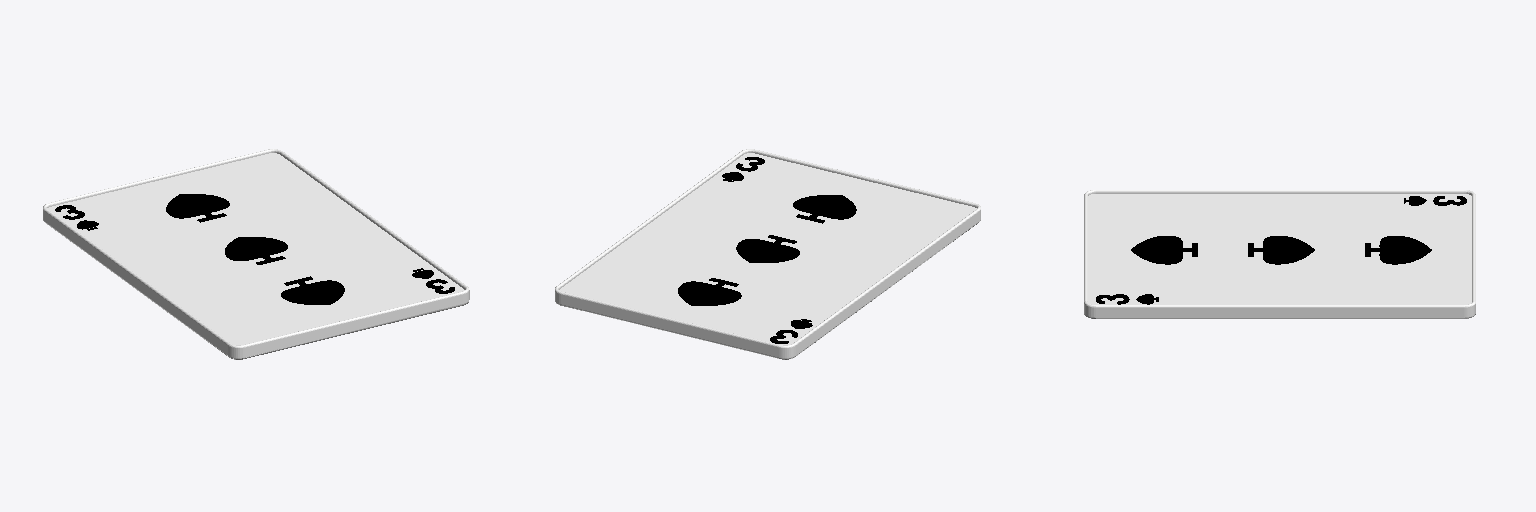
Rendered from spades_3.obj.
3 views of the same model, side by side, from view 1: azimuth 30°, elevation 25°; view 2: azimuth 150°, elevation 25°; view 3: azimuth 270°, elevation 25° (orthographic).
Parts seen in each view (by area): view 1: rect4266.043, rect4266.095, path2985-3-38-2.001, path2985-3-3.002, path2985-3-3-5-4-3, rect4266.110; view 2: rect4266.043, rect4266.095, path2985-3-3.002, path2985-3-38-2.001, path2985-3-3-5-4-3; view 3: rect4266.043, rect4266.095, path2985-3-3.002, path2985-3-38-2.001, path2985-3-3-5-4-3.
Boxes of the visible parts, x1,y1,x2,y2 form: rect4266.043: [47, 153, 464, 344]; rect4266.095: [43, 149, 469, 358]; path2985-3-38-2.001: [281, 276, 344, 304]; path2985-3-3.002: [166, 194, 229, 222]; path2985-3-3-5-4-3: [225, 237, 287, 264]; rect4266.110: [46, 223, 468, 359]; rect4266.043: [559, 153, 976, 344]; rect4266.095: [555, 149, 980, 358]; path2985-3-3.002: [678, 278, 741, 305]; path2985-3-38-2.001: [793, 195, 856, 223]; path2985-3-3-5-4-3: [736, 235, 799, 262]; rect4266.043: [1088, 194, 1471, 304]; rect4266.095: [1084, 190, 1475, 318]; path2985-3-3.002: [1365, 236, 1431, 264]; path2985-3-38-2.001: [1131, 236, 1197, 264]; path2985-3-3-5-4-3: [1248, 236, 1314, 264].
Size of the model in its own units: 2.88 by 0.1966 by 4.08.